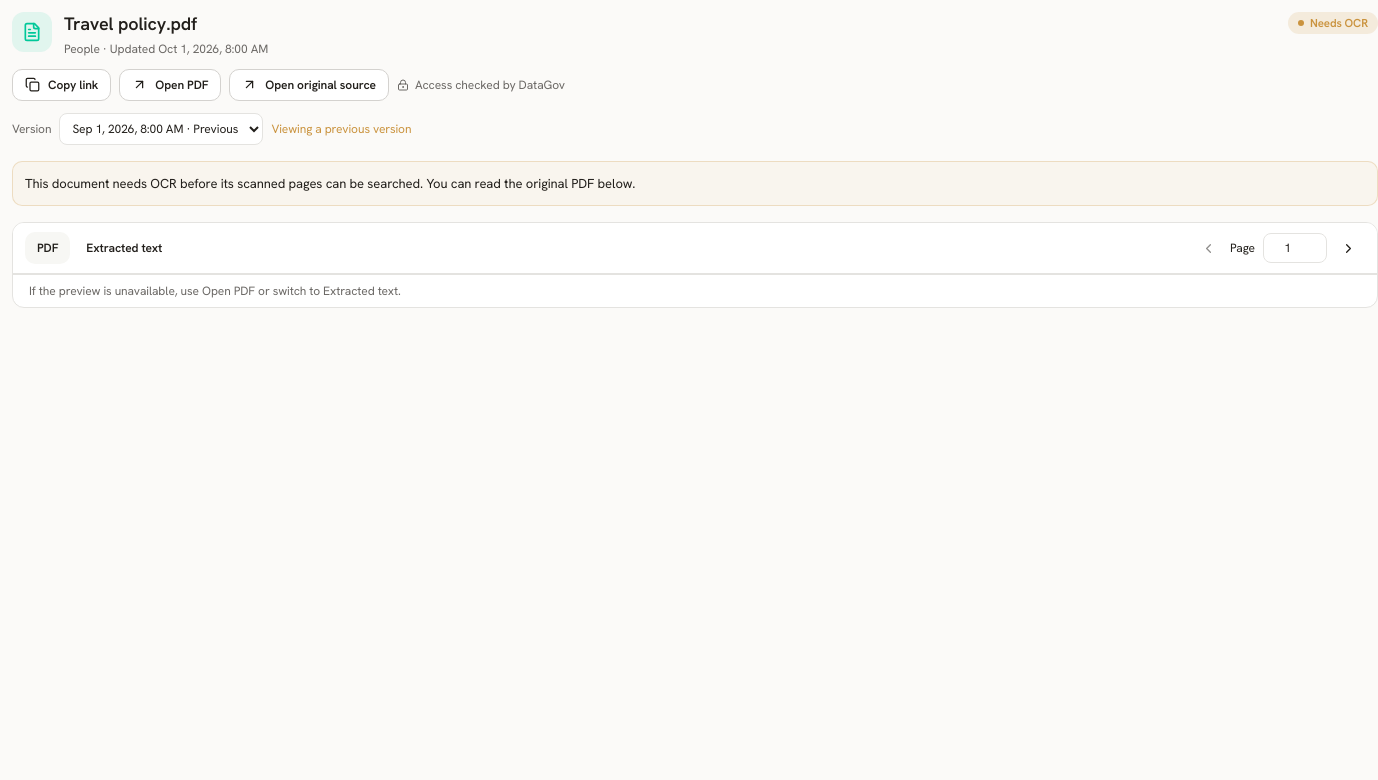
authorized document reader › shows a useful state for a scanned document without extracted text
Expected: the heading "Travel policy.pdf" is shown, [64, 12, 197, 35]
Expected: the message shows "needs OCR", [25, 175, 635, 192]
Click the button "Extracted text" at coordinates (124, 248), box [74, 232, 174, 264]
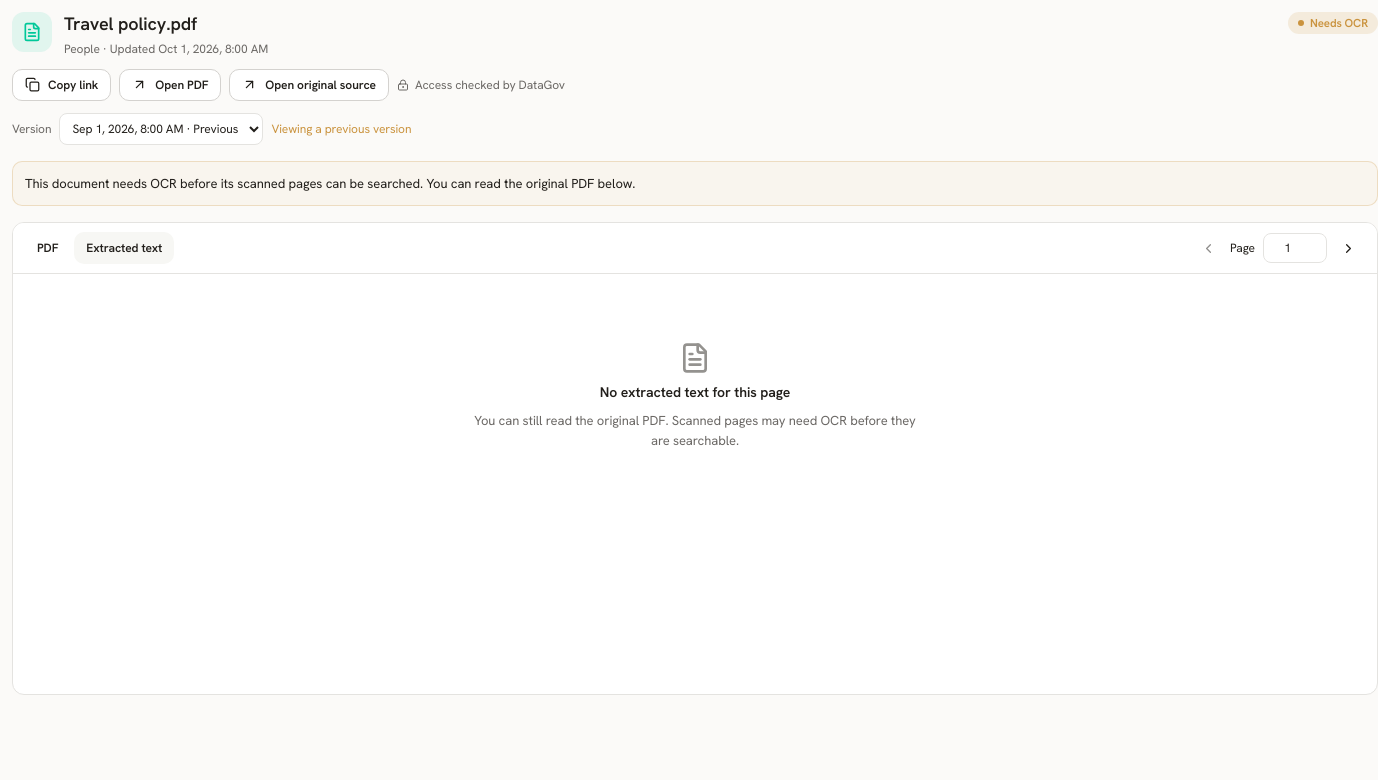
Expected: the link "Open PDF" is shown, [119, 69, 221, 101]
Result: the text "No extracted text for this page" is shown at [600, 382, 790, 403]
